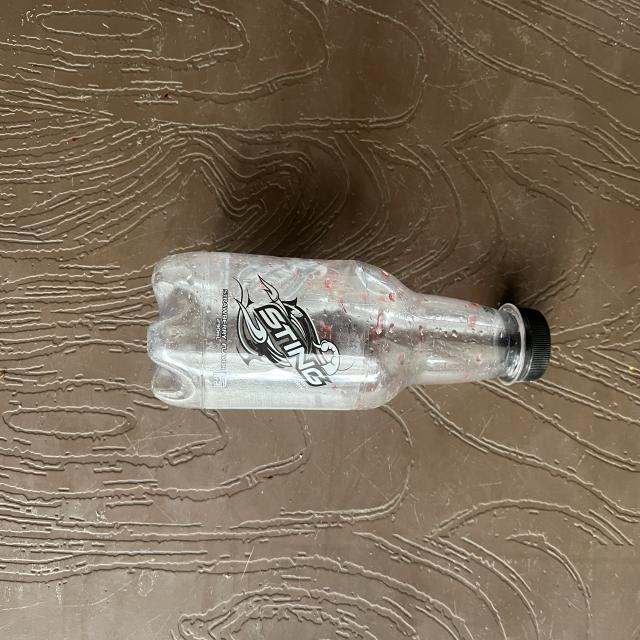REJECT: (141, 249, 520, 416)
